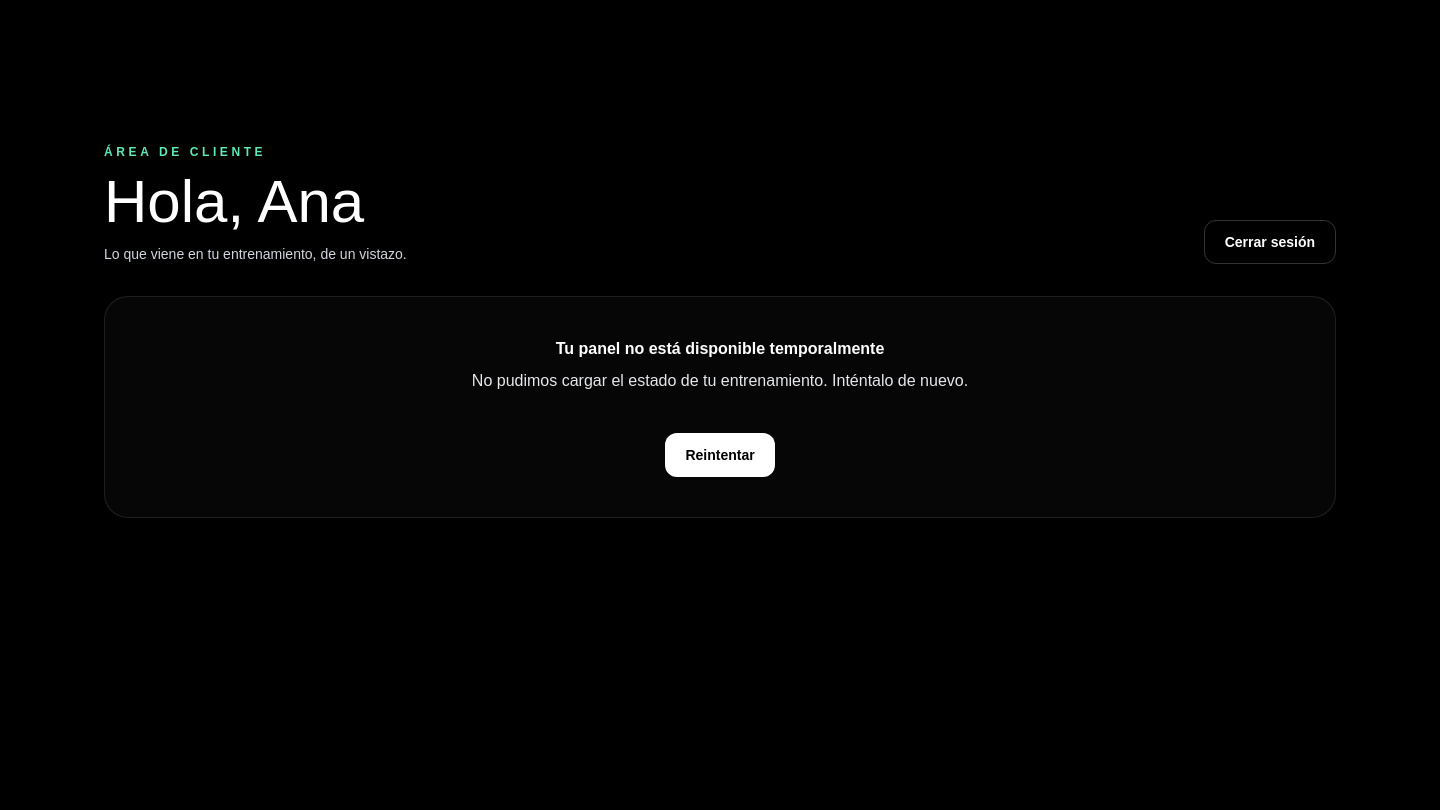
loading and errors › an error says it clearly with "Reintentar", keeps the header and recovers
Expected: the message shows "Tu panel no está disponible temporalmente", left=556, top=340, right=884, bottom=357
Expected: the heading "Hola, Ana" is shown, left=104, top=172, right=407, bottom=232
Click the button "Reintentar": (720, 455) left=665, top=433, right=775, bottom=477
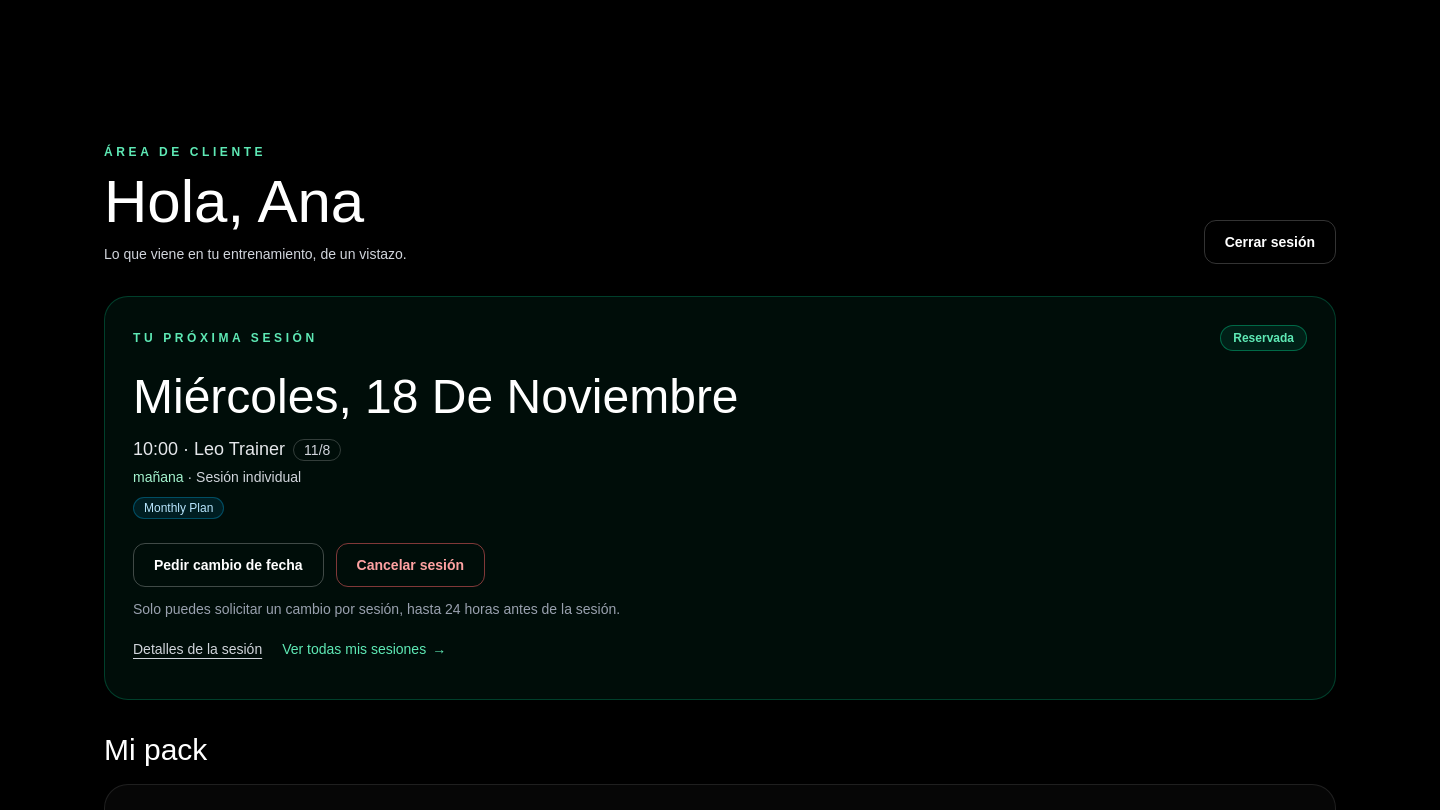
Now the heading "Tu próxima sesión" is shown, box left=133, top=330, right=318, bottom=346
